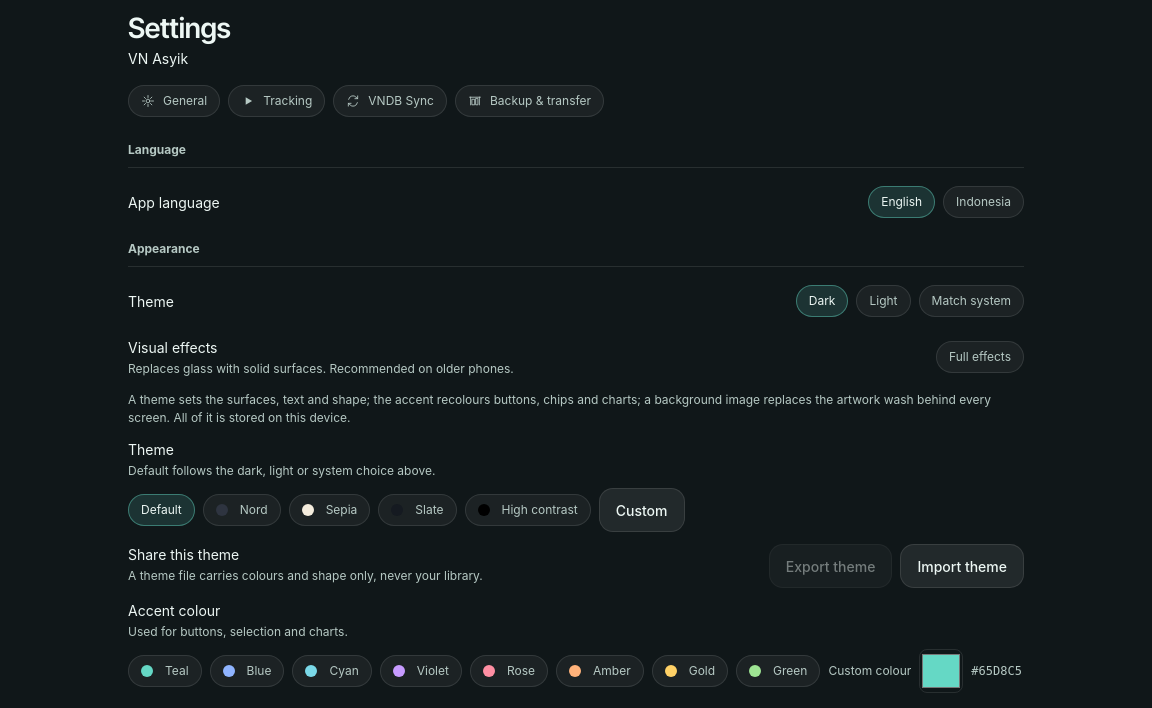
Test: unified settings data tab › keeps backup actions in the tab only, with no duplicate shortcut in General
The image size is (1152, 708).
Expected: the button "Export file" is not shown
What coordinates should you click on to do the following:
click the tab "Backup & transfer"
I would click on:
 (530, 101)
Its box is top-left (455, 85), bottom-right (604, 117).
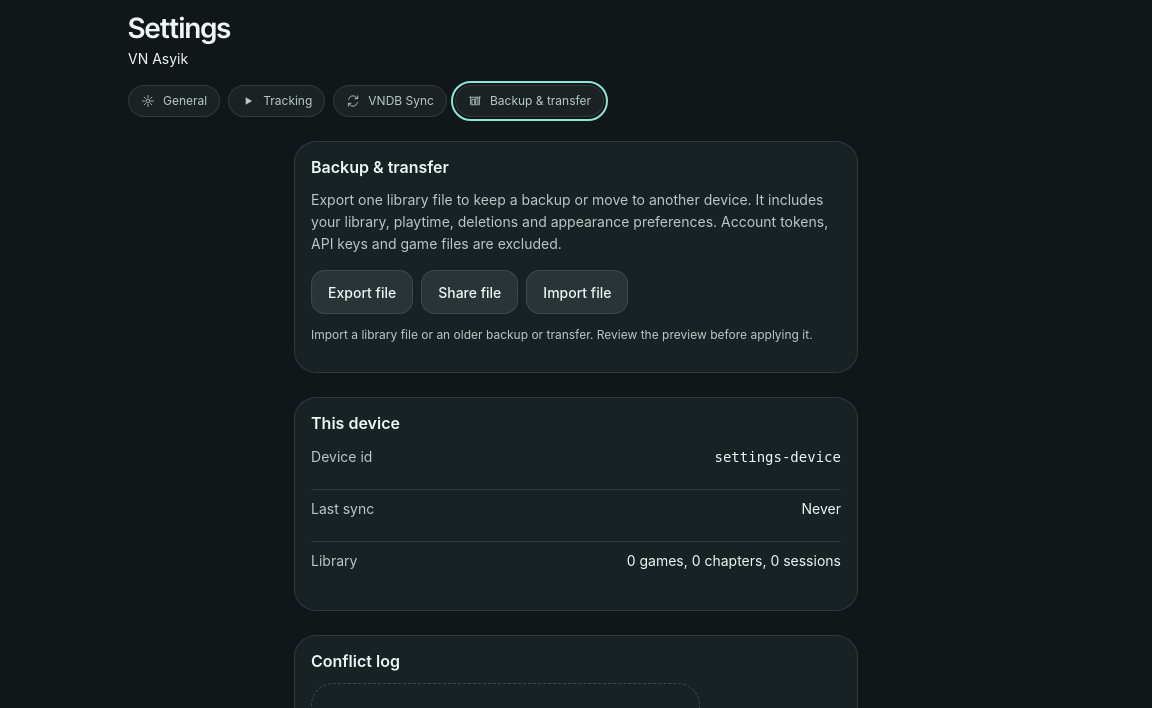
Result: the number of buttons "Export file" is 1 at top-left (311, 270), bottom-right (413, 314)
Result: the number of buttons "Import file" is 1 at top-left (526, 270), bottom-right (628, 314)
